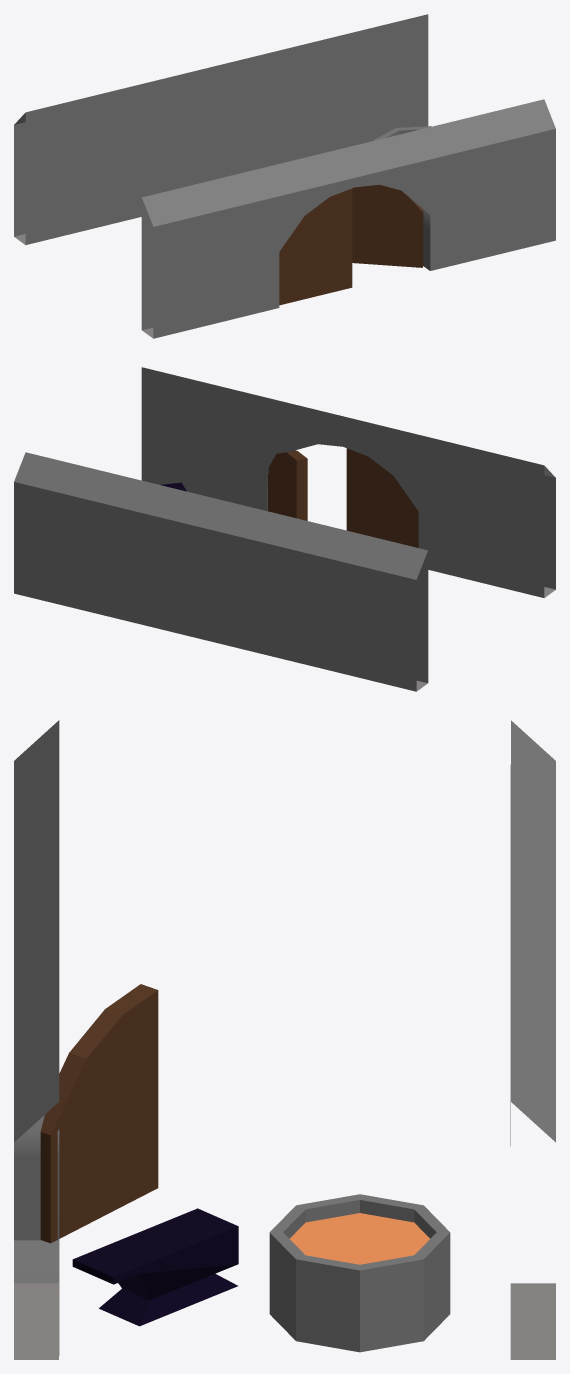
Rendered from Armoury Center 2.fbx.
3 renders of one model, top to bottom at view 1: azimuth 30°, elevation 25°; view 2: azimuth 150°, elevation 25°; view 3: azimuth 270°, elevation 25°, orthographic. The views are drawn at different scales.
Parts seen in each view (by area): view 1: Amory Center 2; view 2: Amory Center 2; view 3: Amory Center 2.
Boxes of the visible parts, <box> form: Amory Center 2: <box>14,14,555,338</box>; Amory Center 2: <box>14,367,555,691</box>; Amory Center 2: <box>14,720,555,1359</box>.
Size of the model in its own units: 1 by 0.3157 by 0.6.
